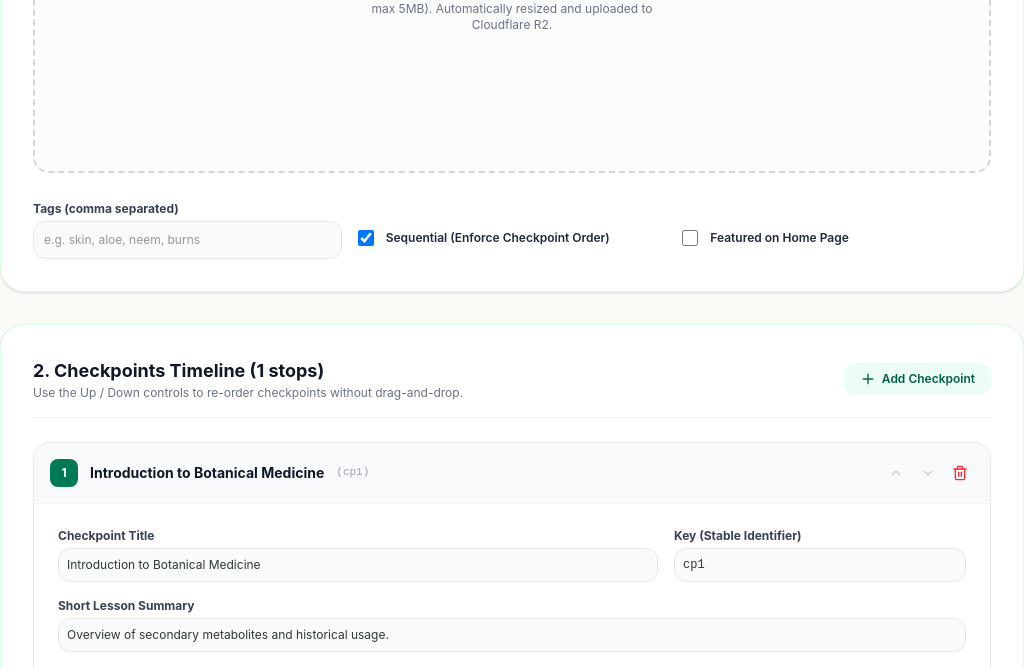
it: Tours Module Frontend › AdminTourEditorPage › validates required fields and allows checkpoint reordering
(page scrolled)
Note: Add a second checkpoint
Click the button "Add Checkpoint" at [917, 379], box 844,363 -> 991,395
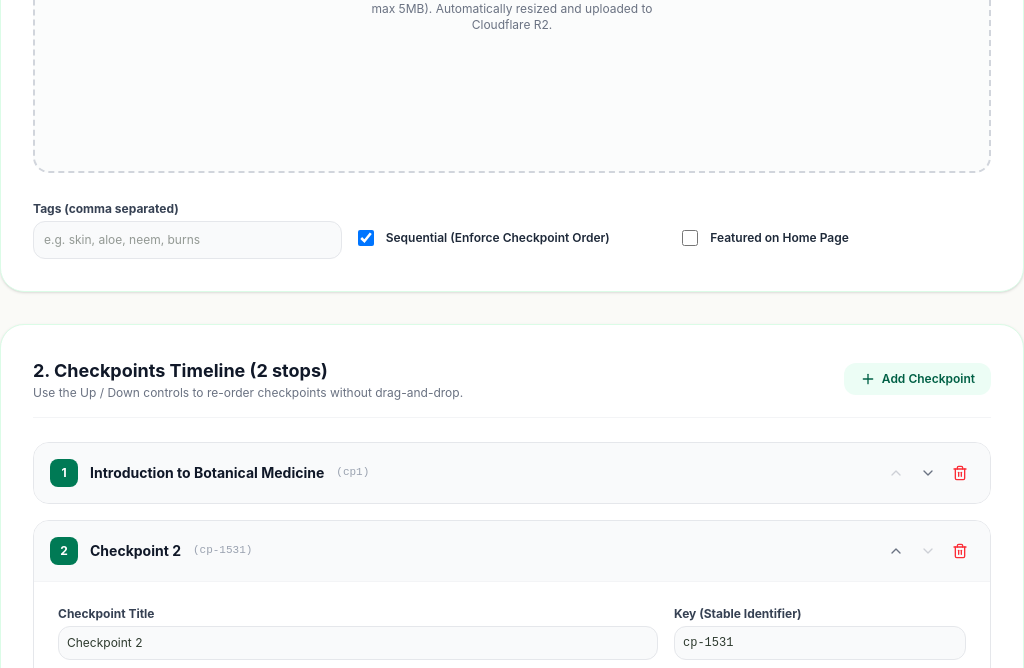
Expected: the text "Introduction to Botanical Medicine" is shown, 90,463 -> 324,483
Expected: the text "Checkpoint 2" is shown, 90,541 -> 181,561
